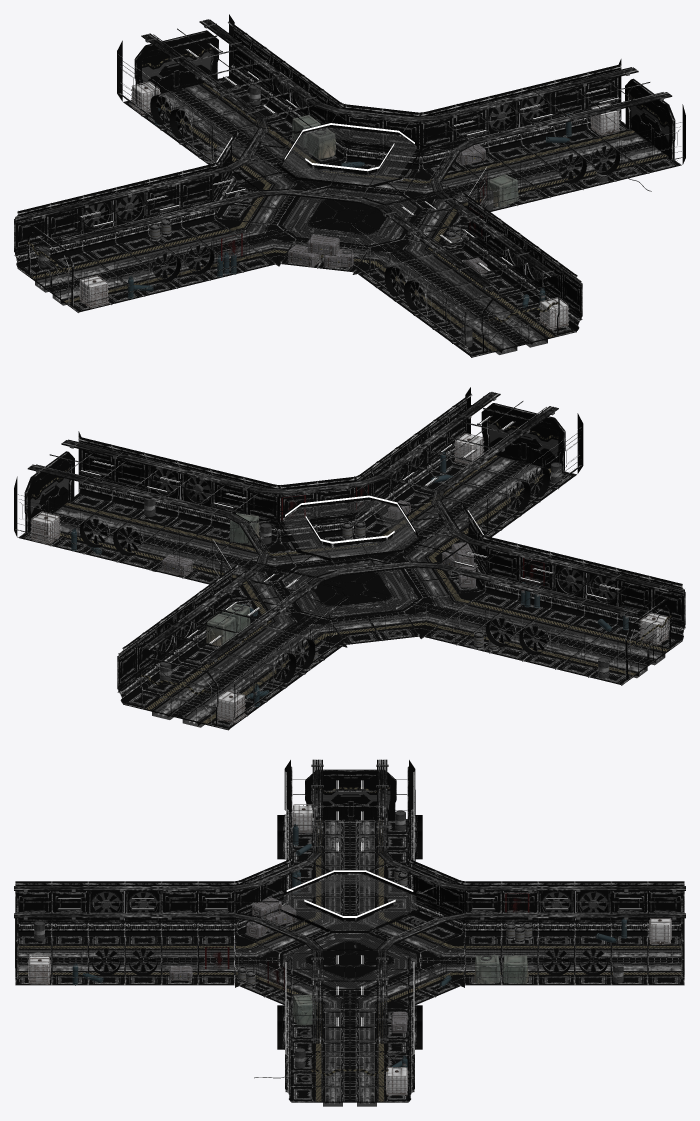
File: junction.glb
The picture shows the model from 3 angles, top to bottom: view 1: azimuth 30°, elevation 25°; view 2: azimuth 150°, elevation 25°; view 3: azimuth 270°, elevation 25°; orthographic projection. The views are drawn at different scales.
Parts seen in each view (by area): view 1: floor.004, floor, floor.002, floor.008, floor_central, pipes.001, pipes.003, pipes.004, pipes.002, floor.007, floor.005, floor_corner.001 (+30 smaller); view 2: floor.004, floor.002, floor.008, floor, floor_central, pipes.001, pipes.003, pipes.004, floor.005, pipes.002, floor.007, floor_corner.002 (+29 smaller); view 3: floor, floor.008, floor.002, floor.004, floor_central, pipes.003, pipes.002, pipes.001, floor.005, pipes.004, floor.007, floor_corner.001 (+24 smaller).
Part boxes in pixels (x1,y1,x2,y2): floor.004: (14, 163, 278, 312); floor: (352, 191, 582, 357); floor.002: (420, 64, 684, 211); floor.008: (118, 19, 347, 185); floor_central: (277, 123, 422, 247); pipes.001: (28, 67, 672, 244); pipes.003: (141, 19, 557, 291); pipes.004: (160, 85, 544, 352); pipes.002: (37, 136, 661, 303); floor.007: (279, 104, 420, 272); floor.005: (214, 128, 486, 245); floor_corner.001: (237, 160, 462, 274); floor.004: (421, 535, 685, 685); floor.002: (15, 436, 279, 584); floor.008: (117, 563, 347, 730); floor: (352, 392, 581, 552); floor_central: (277, 495, 422, 619); pipes.001: (27, 440, 671, 616); pipes.003: (142, 392, 558, 664); pipes.004: (155, 458, 540, 725); floor.005: (279, 477, 420, 644); pipes.002: (55, 508, 662, 676); floor.007: (213, 501, 486, 616); floor_corner.002: (232, 541, 484, 638); floor: (15, 881, 234, 985); floor.008: (465, 881, 684, 985); floor.002: (285, 956, 414, 1106); floor.004: (285, 766, 414, 911); floor_central: (280, 870, 419, 989); pipes.003: (14, 871, 685, 932); pipes.002: (292, 820, 407, 1103); pipes.001: (279, 759, 420, 1043); floor.005: (234, 859, 465, 1006); pipes.004: (18, 937, 681, 986); floor.007: (234, 859, 465, 1006); floor_corner.001: (235, 935, 464, 987).
Size of the model in its own units: 35.01 by 4 by 35.01.
16 materials, 11 textured.
